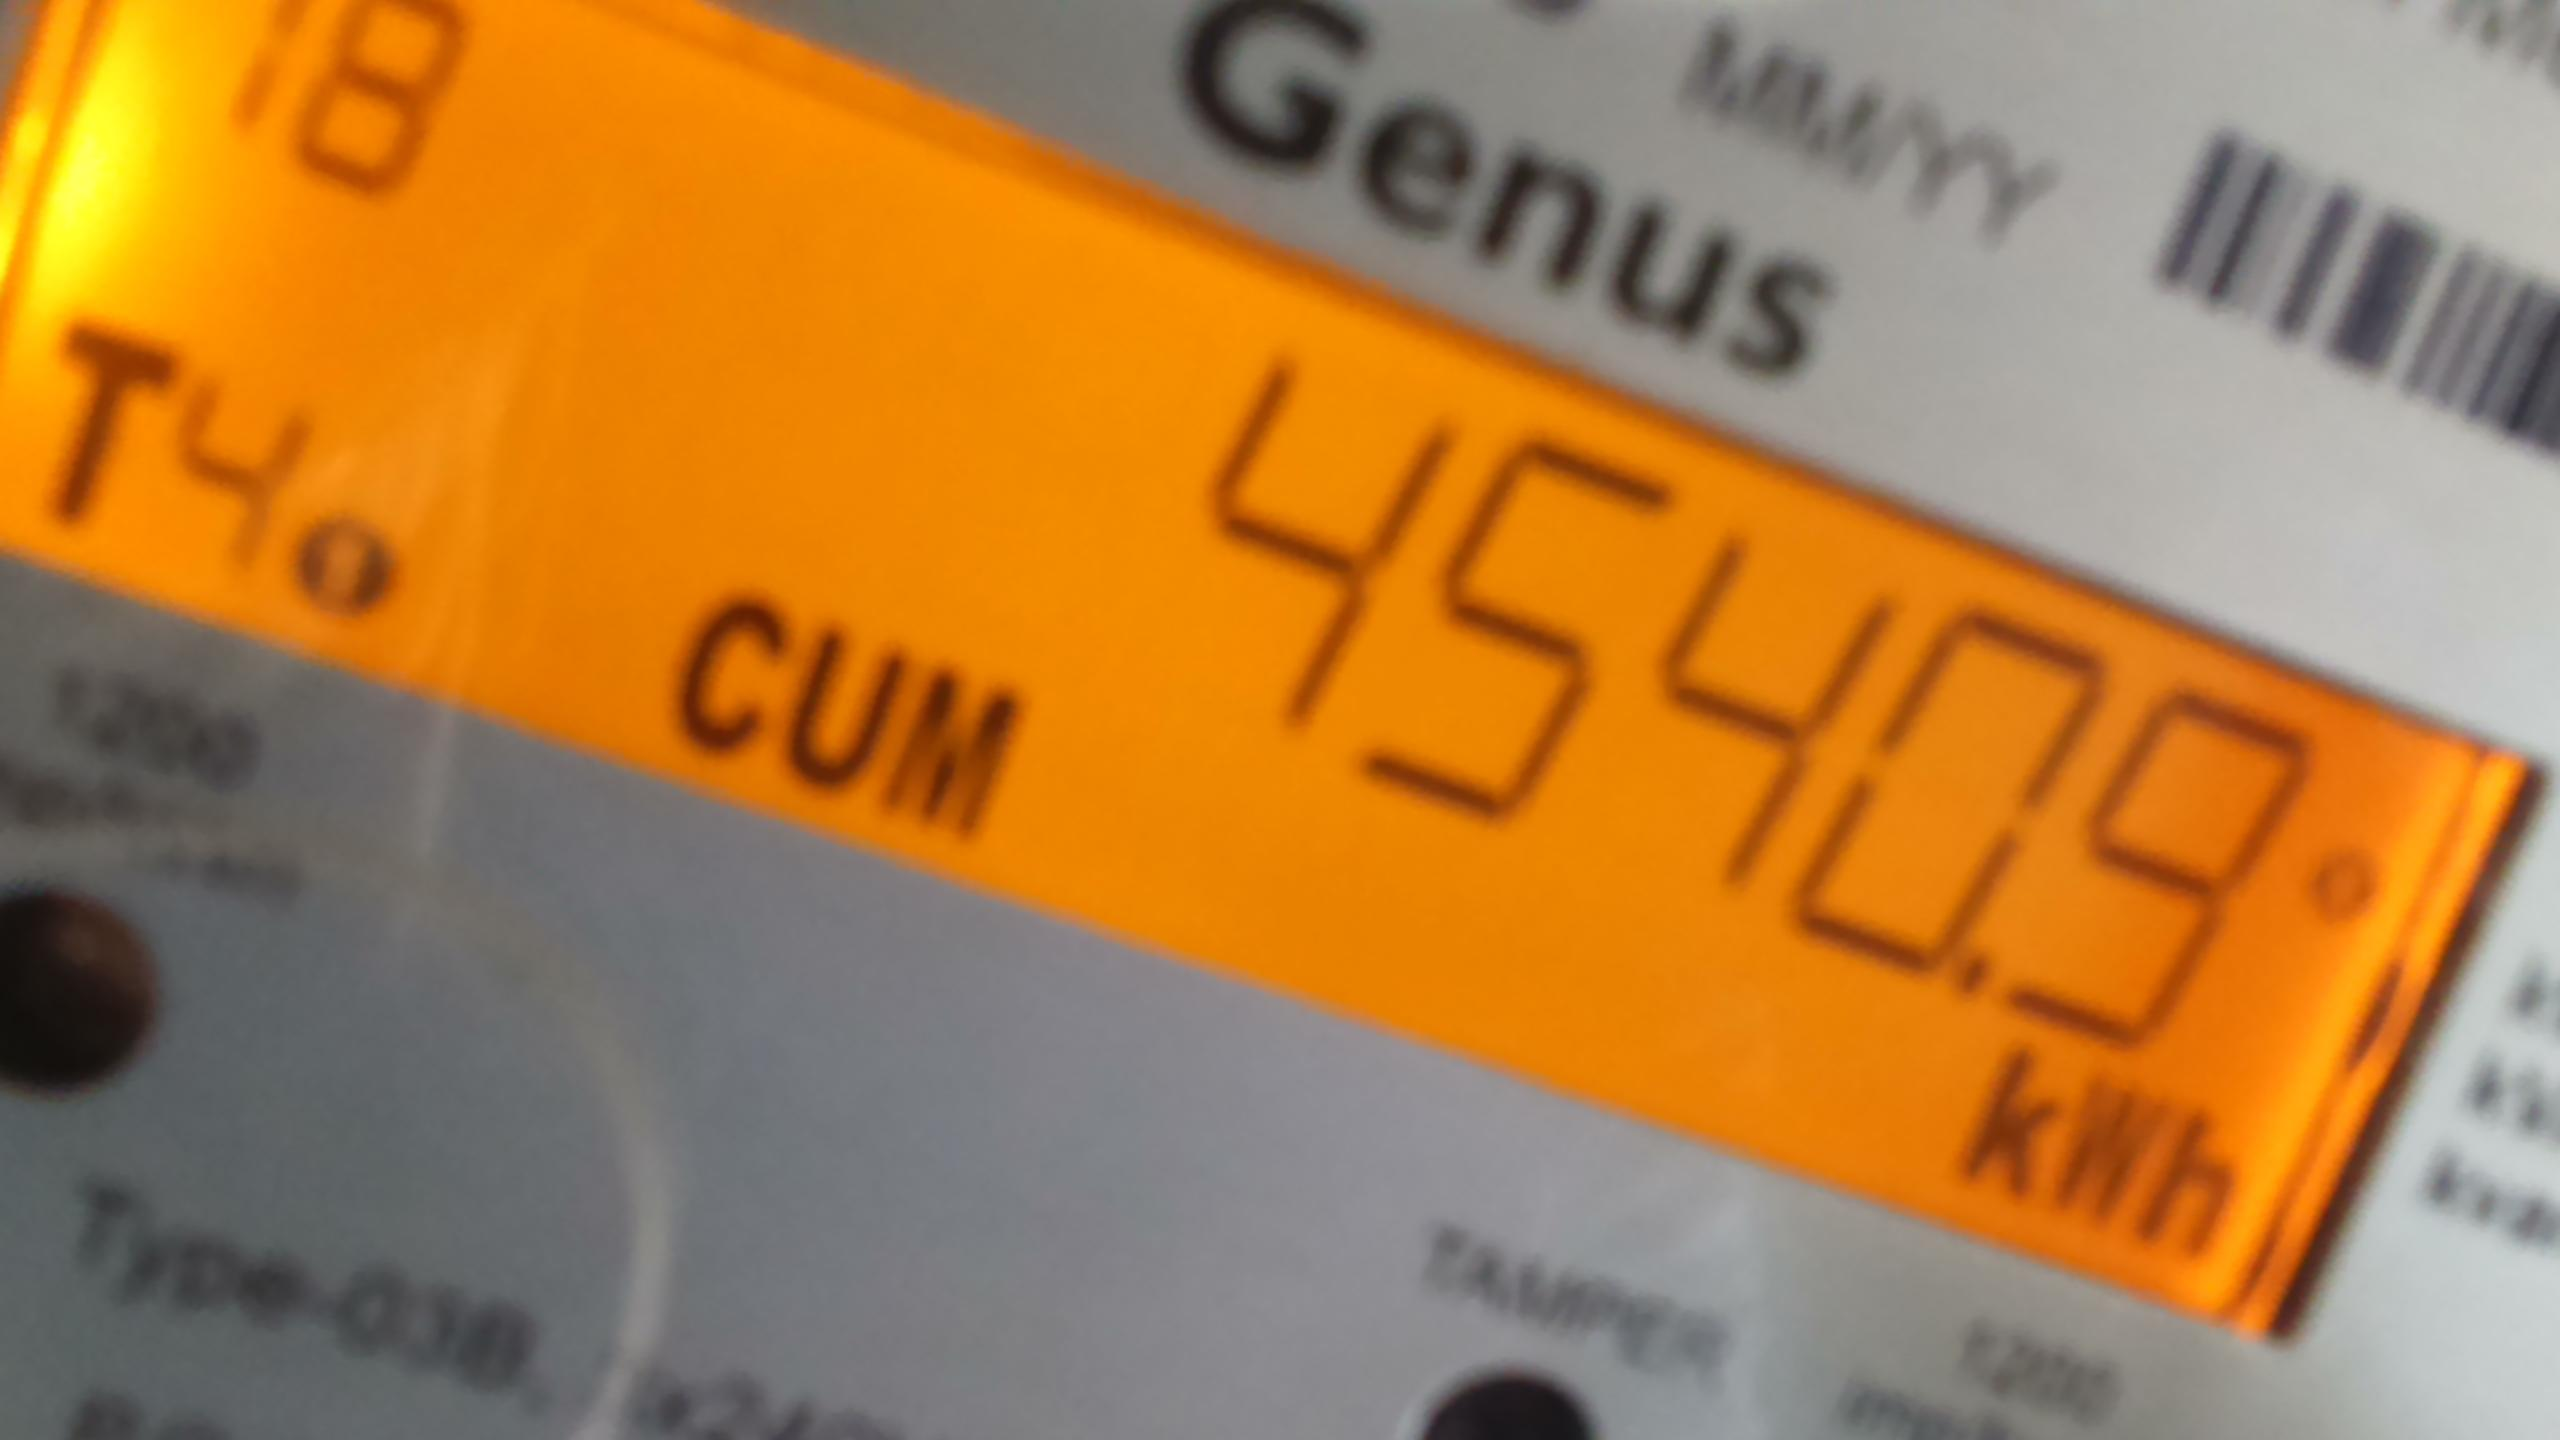.: (1962, 1039, 2247, 1310)
0: (1932, 934, 2006, 1030)
1: (1749, 615, 2133, 974)
5: (1104, 348, 1482, 738)
6: (1377, 418, 1732, 839), (1625, 519, 1916, 914)
:: (2015, 691, 2363, 1013)
